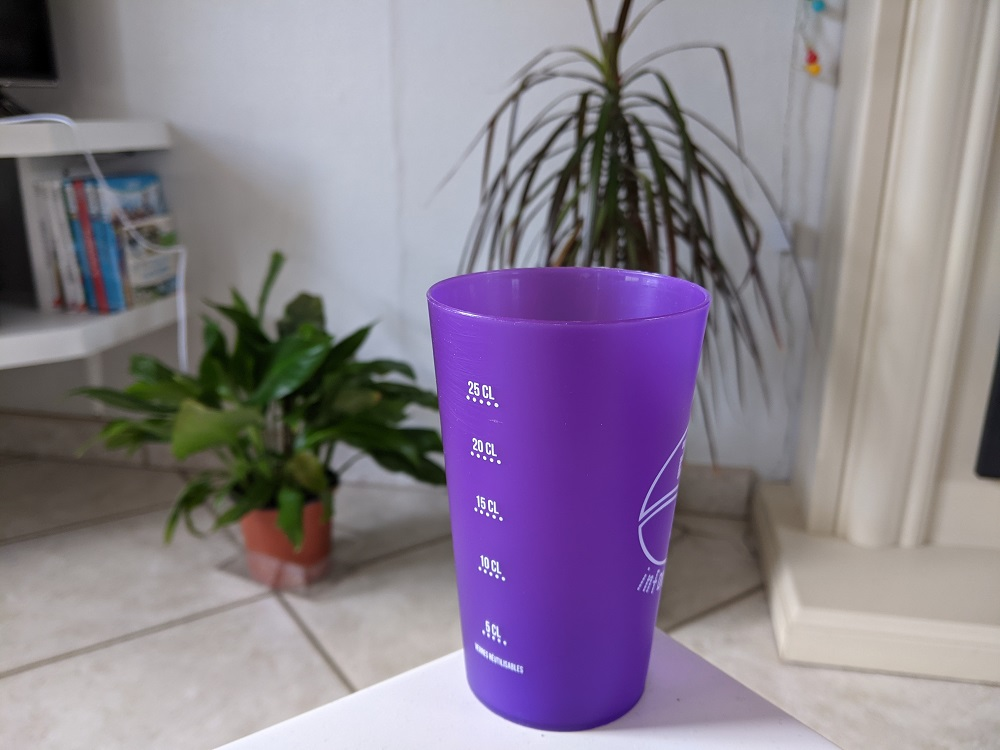ecocup: (426, 266, 712, 732)
